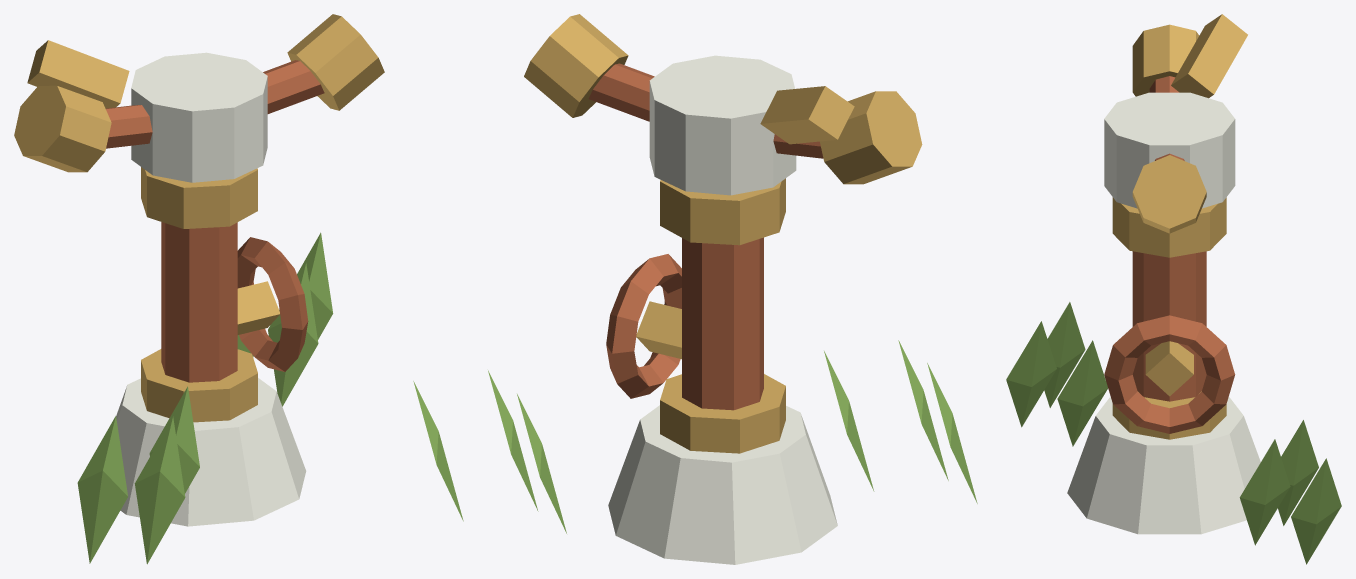
The model's file is sprinkler.glb.
3 renders of one model, left to right at view 1: azimuth 30°, elevation 25°; view 2: azimuth 150°, elevation 25°; view 3: azimuth 270°, elevation 25°, orthographic. The views are drawn at different scales.
Visible parts, largest first — view 1: move_spin_head, Sprinkler_ceramic_foot, Sprinkler_copper_riser, Sprinkler_brass_collar.001, Sprinkler_tap_wheel, Sprinkler_brass_collar, decor_Grass.002, decor_Grass, decor_Grass.005, decor_Grass.001, Sprinkler_tap_connector, decor_Grass.004; view 2: move_spin_head, Sprinkler_ceramic_foot, Sprinkler_copper_riser, Sprinkler_brass_collar, Sprinkler_brass_collar.001, Sprinkler_tap_wheel, Sprinkler_tap_connector, decor_Grass.005, decor_Grass, decor_Grass.002, decor_Grass.004, decor_Grass.001 (+1 smaller); view 3: move_spin_head, Sprinkler_ceramic_foot, Sprinkler_tap_wheel, Sprinkler_copper_riser, Sprinkler_brass_collar.001, decor_Grass.004, decor_Grass.005, decor_Grass.001, decor_Grass.002, decor_Grass, decor_Grass.003, Sprinkler_tap_connector (+1 smaller).
Boxes of the visible parts, x1,y1,x2,y2 form: move_spin_head: (14, 14, 384, 182); Sprinkler_ceramic_foot: (116, 378, 306, 526); Sprinkler_copper_riser: (161, 222, 237, 382); Sprinkler_brass_collar.001: (141, 167, 257, 228); Sprinkler_tap_wheel: (237, 237, 308, 371); Sprinkler_brass_collar: (141, 349, 257, 422); decor_Grass.002: (134, 416, 185, 564); decor_Grass: (77, 416, 127, 563); decor_Grass.005: (268, 263, 318, 406); decor_Grass.001: (149, 386, 199, 493); Sprinkler_tap_connector: (237, 281, 279, 334); decor_Grass.004: (297, 232, 333, 339); move_spin_head: (524, 14, 922, 195); Sprinkler_ceramic_foot: (608, 405, 837, 564); Sprinkler_copper_riser: (682, 237, 763, 410); Sprinkler_brass_collar: (660, 374, 785, 453); Sprinkler_brass_collar.001: (660, 178, 785, 245); Sprinkler_tap_wheel: (606, 254, 681, 398); Sprinkler_tap_connector: (636, 301, 681, 359); decor_Grass.005: (488, 370, 538, 511); decor_Grass: (927, 363, 977, 503); decor_Grass.002: (898, 340, 948, 480); decor_Grass.004: (413, 381, 463, 521); decor_Grass.001: (824, 351, 874, 491); move_spin_head: (1104, 14, 1247, 233); Sprinkler_ceramic_foot: (1067, 397, 1260, 534); Sprinkler_tap_wheel: (1104, 315, 1235, 433); Sprinkler_copper_riser: (1132, 251, 1206, 401); Sprinkler_brass_collar.001: (1112, 197, 1226, 257); decor_Grass.004: (1291, 458, 1341, 564); decor_Grass.005: (1239, 439, 1290, 545); decor_Grass.001: (1057, 340, 1107, 446); decor_Grass.002: (1006, 321, 1056, 427); decor_Grass: (1044, 302, 1085, 407); decor_Grass.003: (1278, 420, 1318, 525); Sprinkler_tap_connector: (1145, 341, 1193, 396).
Size of the model in its own units: 0.7258 by 0.8187 by 0.5894.
